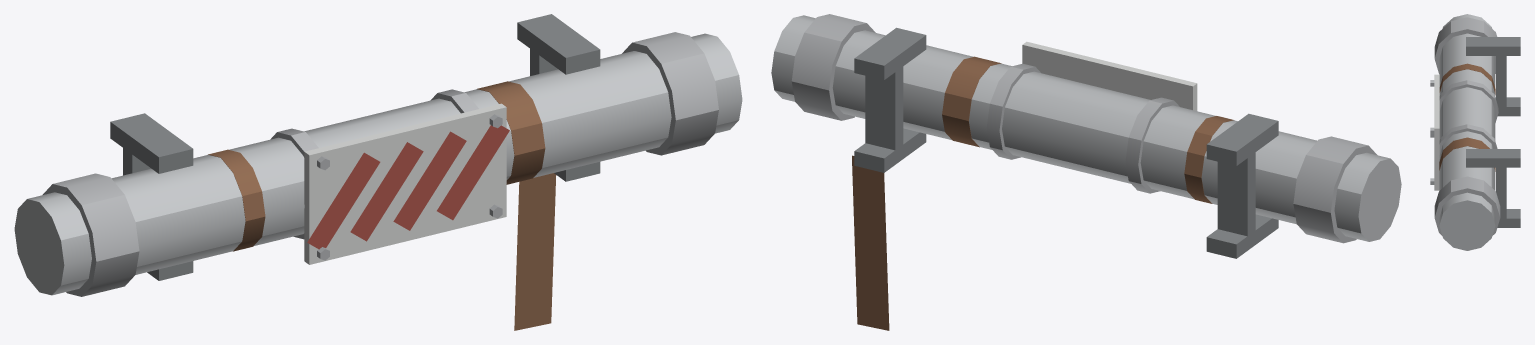
The model's file is Dress_PipeLabel.fbx.
3 renders of one model, left to right at view 1: azimuth 30°, elevation 25°; view 2: azimuth 150°, elevation 25°; view 3: azimuth 270°, elevation 25°, orthographic. The views are drawn at different scales.
Visible parts, largest first — view 1: Dress_PipeLabel; view 2: Dress_PipeLabel; view 3: Dress_PipeLabel.
Boxes of the visible parts, x1,y1,x2,y2 form: Dress_PipeLabel: (14,14,742,330); Dress_PipeLabel: (771,14,1401,330); Dress_PipeLabel: (1430,14,1520,250).
Bounding box in the file's own units: 110 × 47.7 × 22.63.
